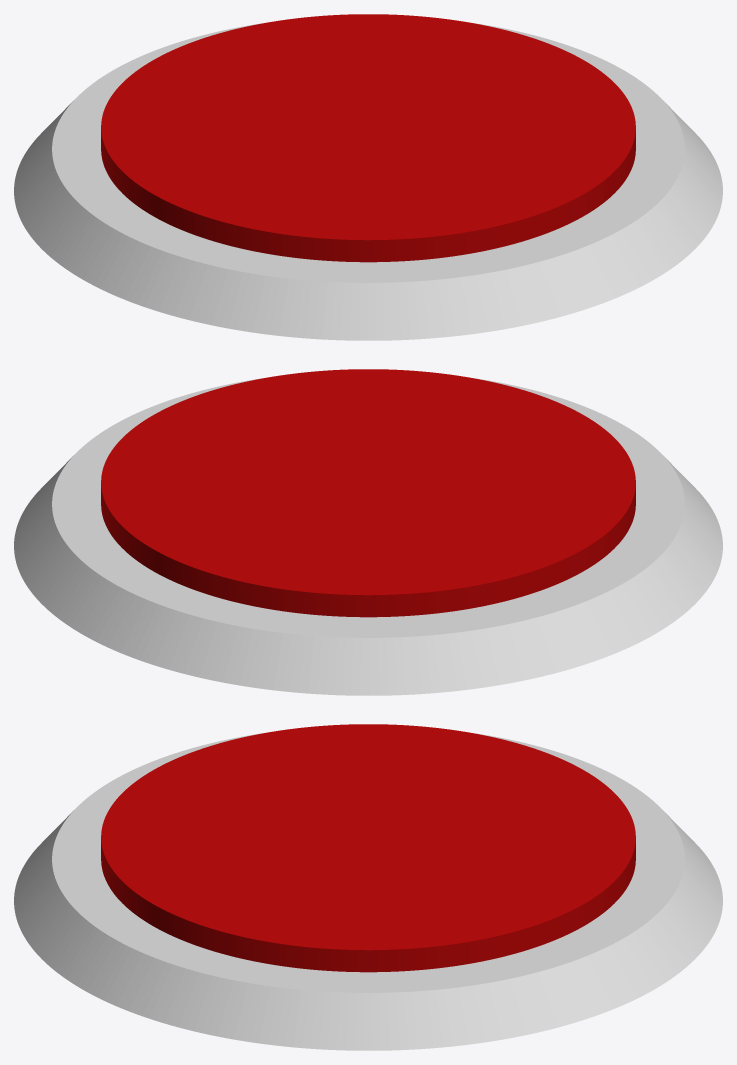
Rendered from button.fbx.
The picture shows the model from 3 angles, top to bottom: view 1: azimuth 30°, elevation 25°; view 2: azimuth 150°, elevation 25°; view 3: azimuth 270°, elevation 25°; orthographic projection.
Visible parts, largest first — view 1: Cylinder.000, Cylinder.002; view 2: Cylinder.000, Cylinder.002; view 3: Cylinder.000, Cylinder.002.
Part boxes in pixels (x1,y1,x2,y2): Cylinder.000: [101, 14, 635, 262]; Cylinder.002: [14, 22, 722, 340]; Cylinder.000: [101, 369, 635, 617]; Cylinder.002: [14, 377, 722, 695]; Cylinder.000: [101, 724, 635, 972]; Cylinder.002: [14, 732, 722, 1050].
Size of the model in its own units: 356 by 35.32 by 356.
